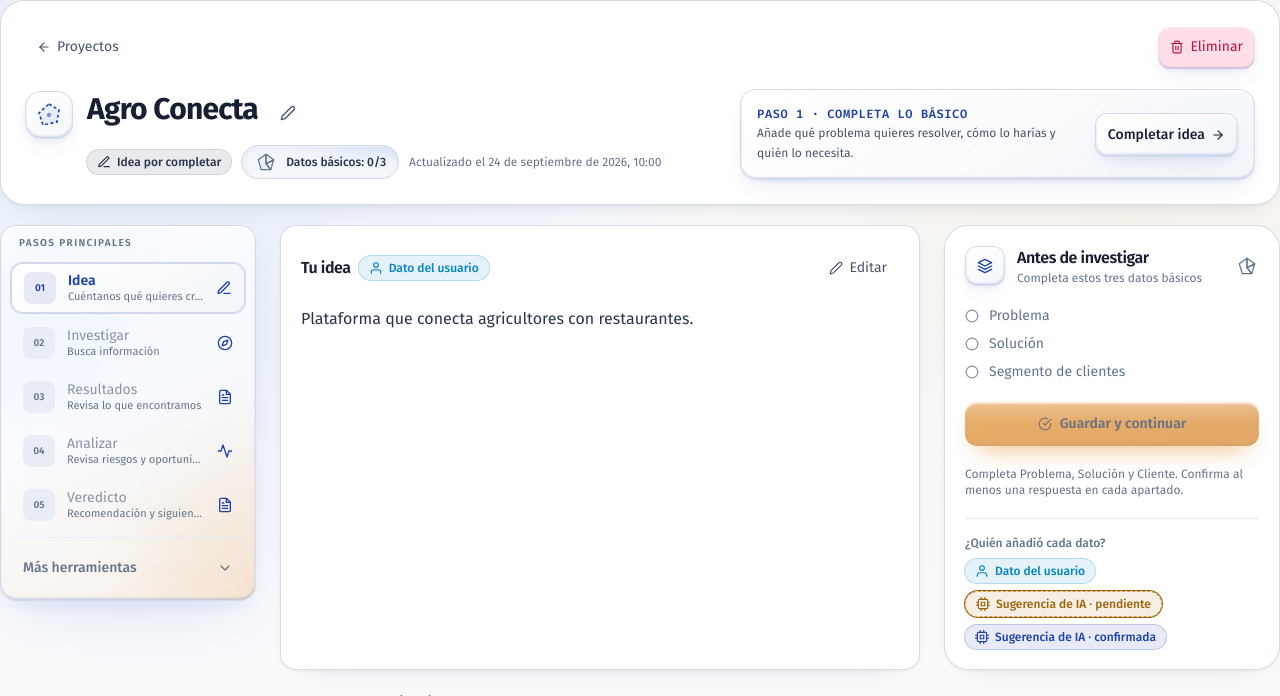
Scenario: Detalle del proyecto › muestra los pasos principales y guarda las herramientas opcionales en un menú
The width and height of the screenshot is (1280, 696).
Check: the link "01 Idea Cuéntanos qué quieres crear" is shown, box [11,263,245,313]
Check: the link "02 Investigar Busca información" is shown, box [11,319,245,367]
Click the heading "Más herramientas" at (128, 568), box [23,559,233,576]
(page scrolled)
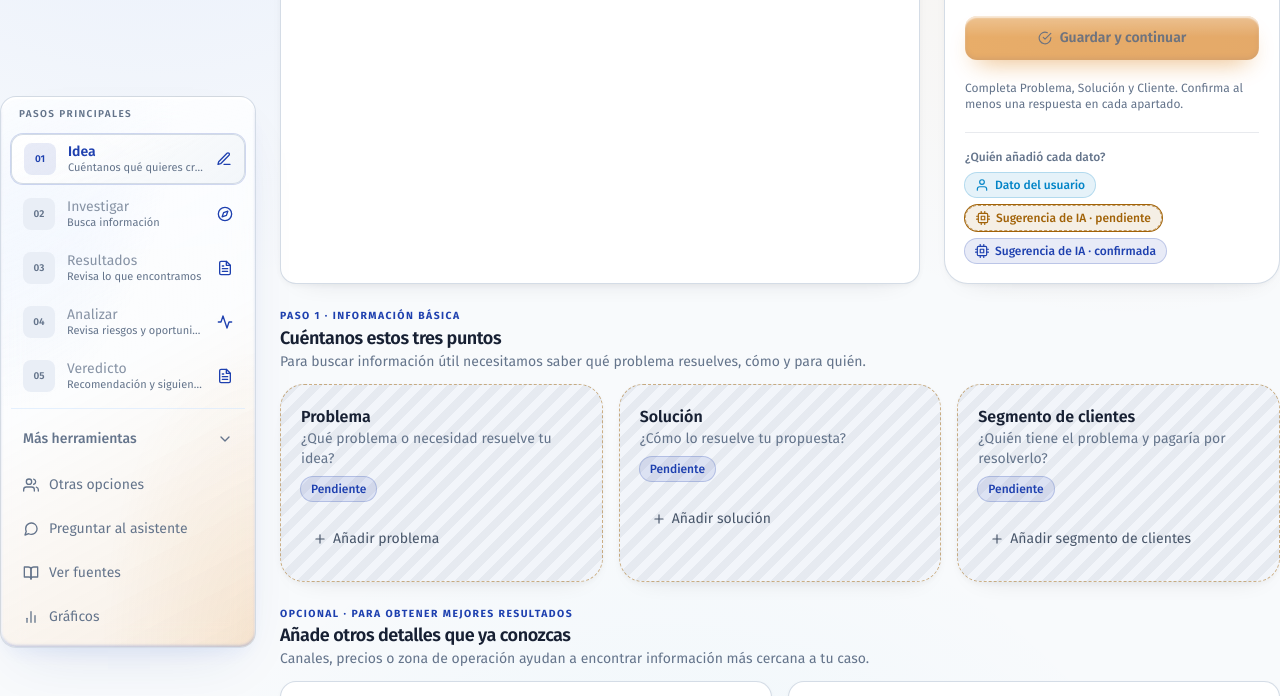
Check: the link "Gráficos" is shown, box [23,608,100,625]
